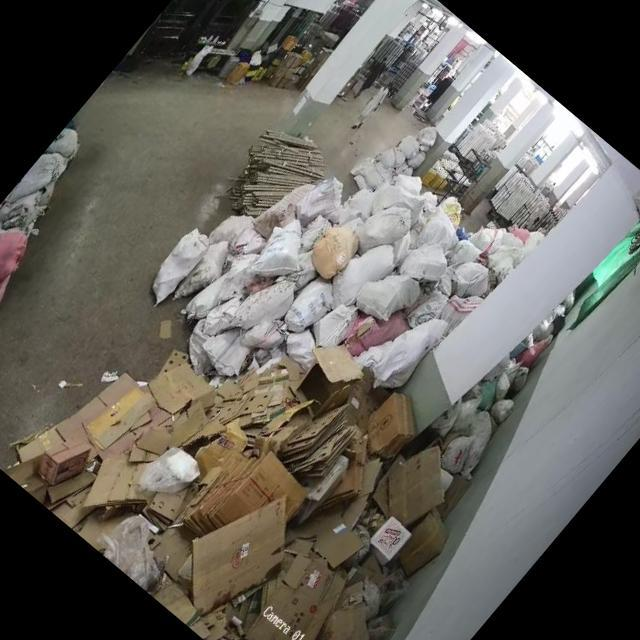person: (344, 74, 400, 136), (348, 51, 395, 102)
